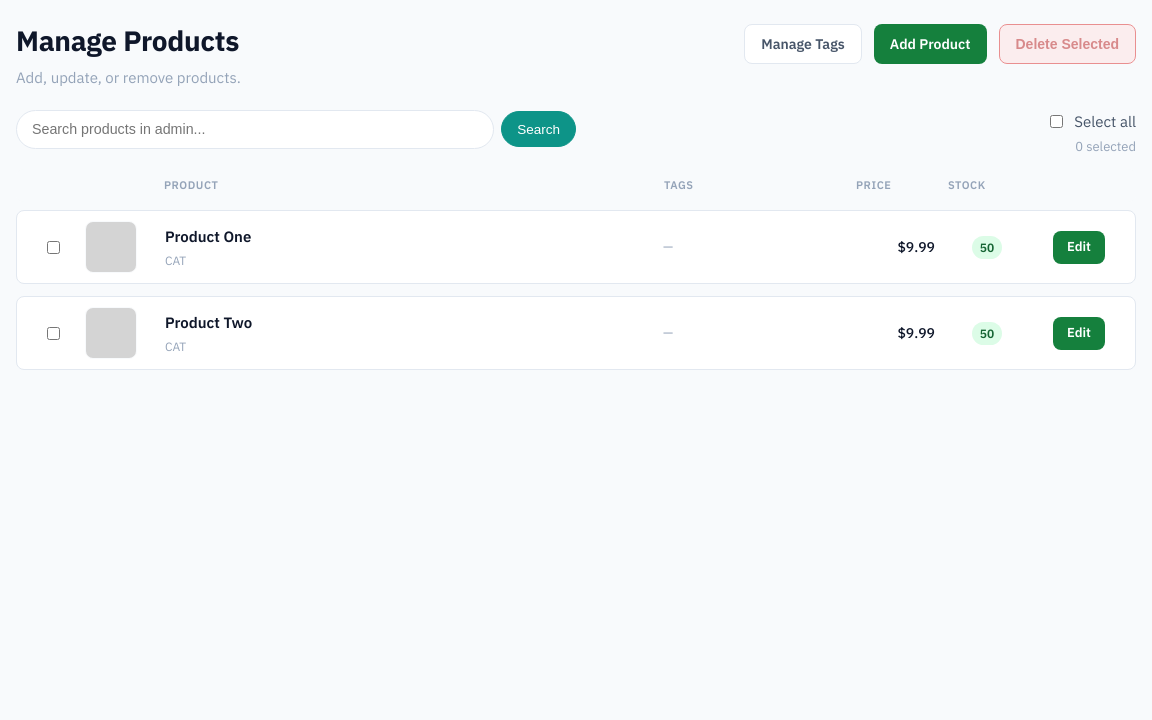
Test: AdminProductsPage › opens ConfirmDialog (not window.confirm) when Delete Selected is clicked
Select first product by clicking its row
Click the text "Product One": x=208, y=236 [165, 227, 251, 246]
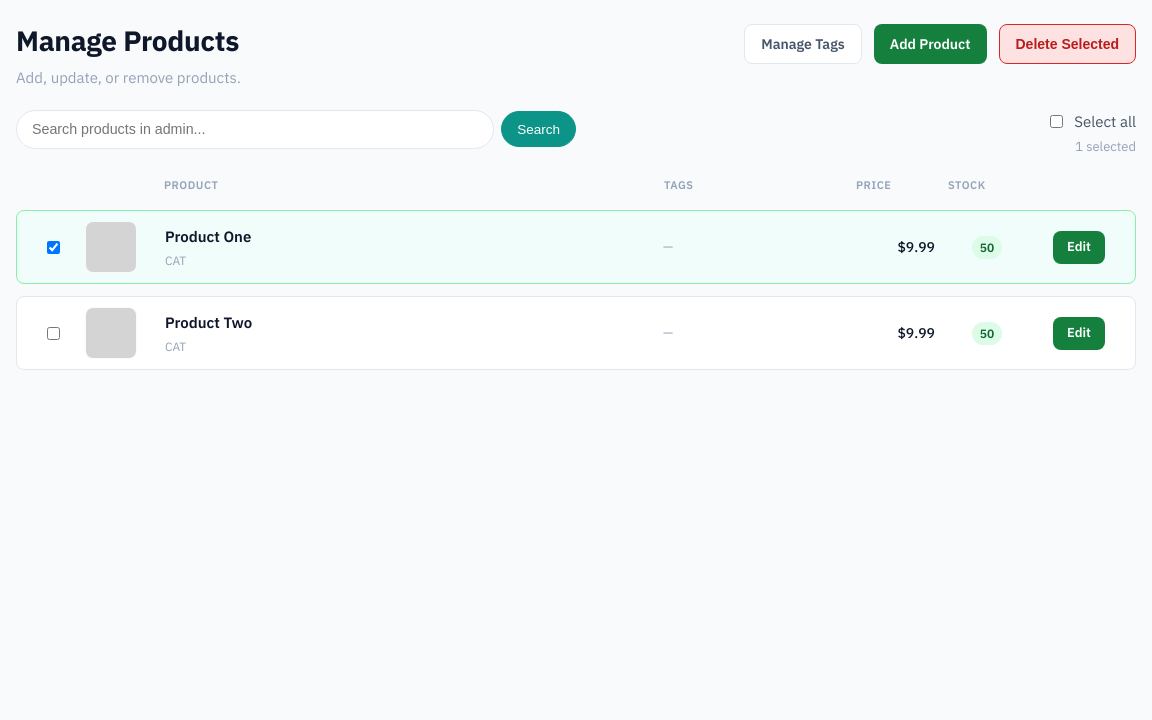
Click the button "Delete Selected": x=1067, y=44 [998, 24, 1136, 64]
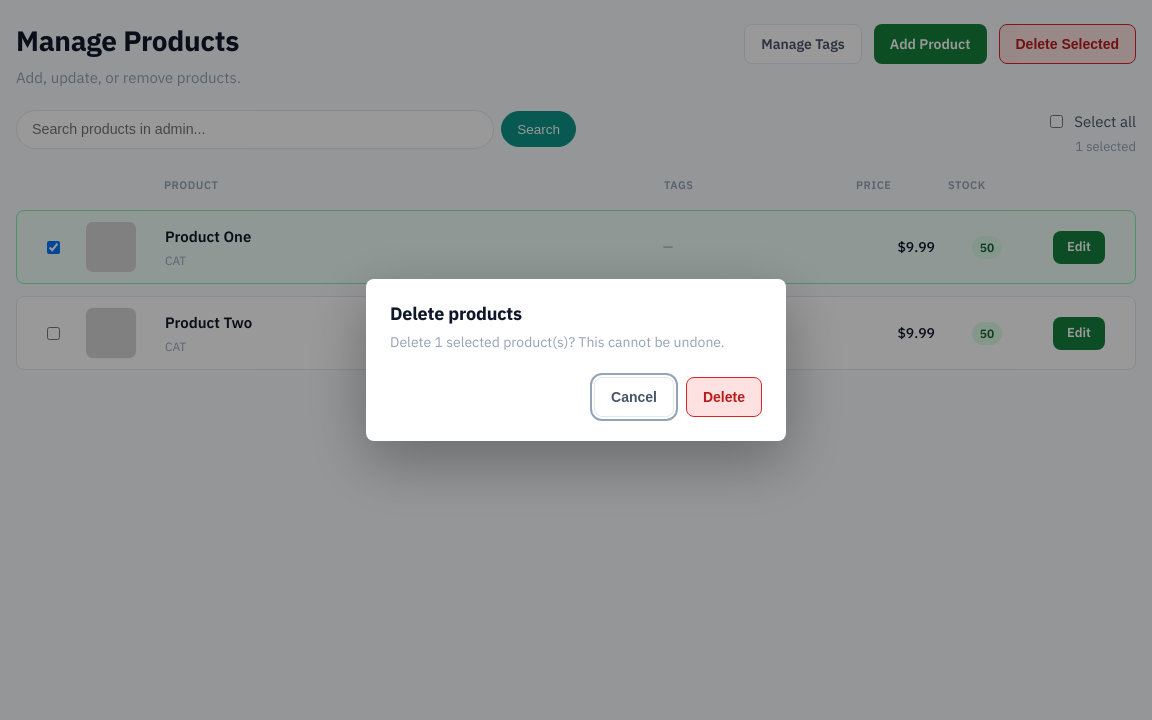
Expected: the dialog is shown, [366, 279, 786, 441]
Expected: the heading "Delete products" is shown, [390, 302, 522, 325]
